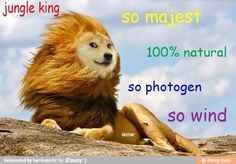doge: (74, 28, 121, 76)
